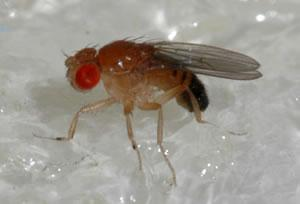phorid fly: (35, 25, 268, 192)
